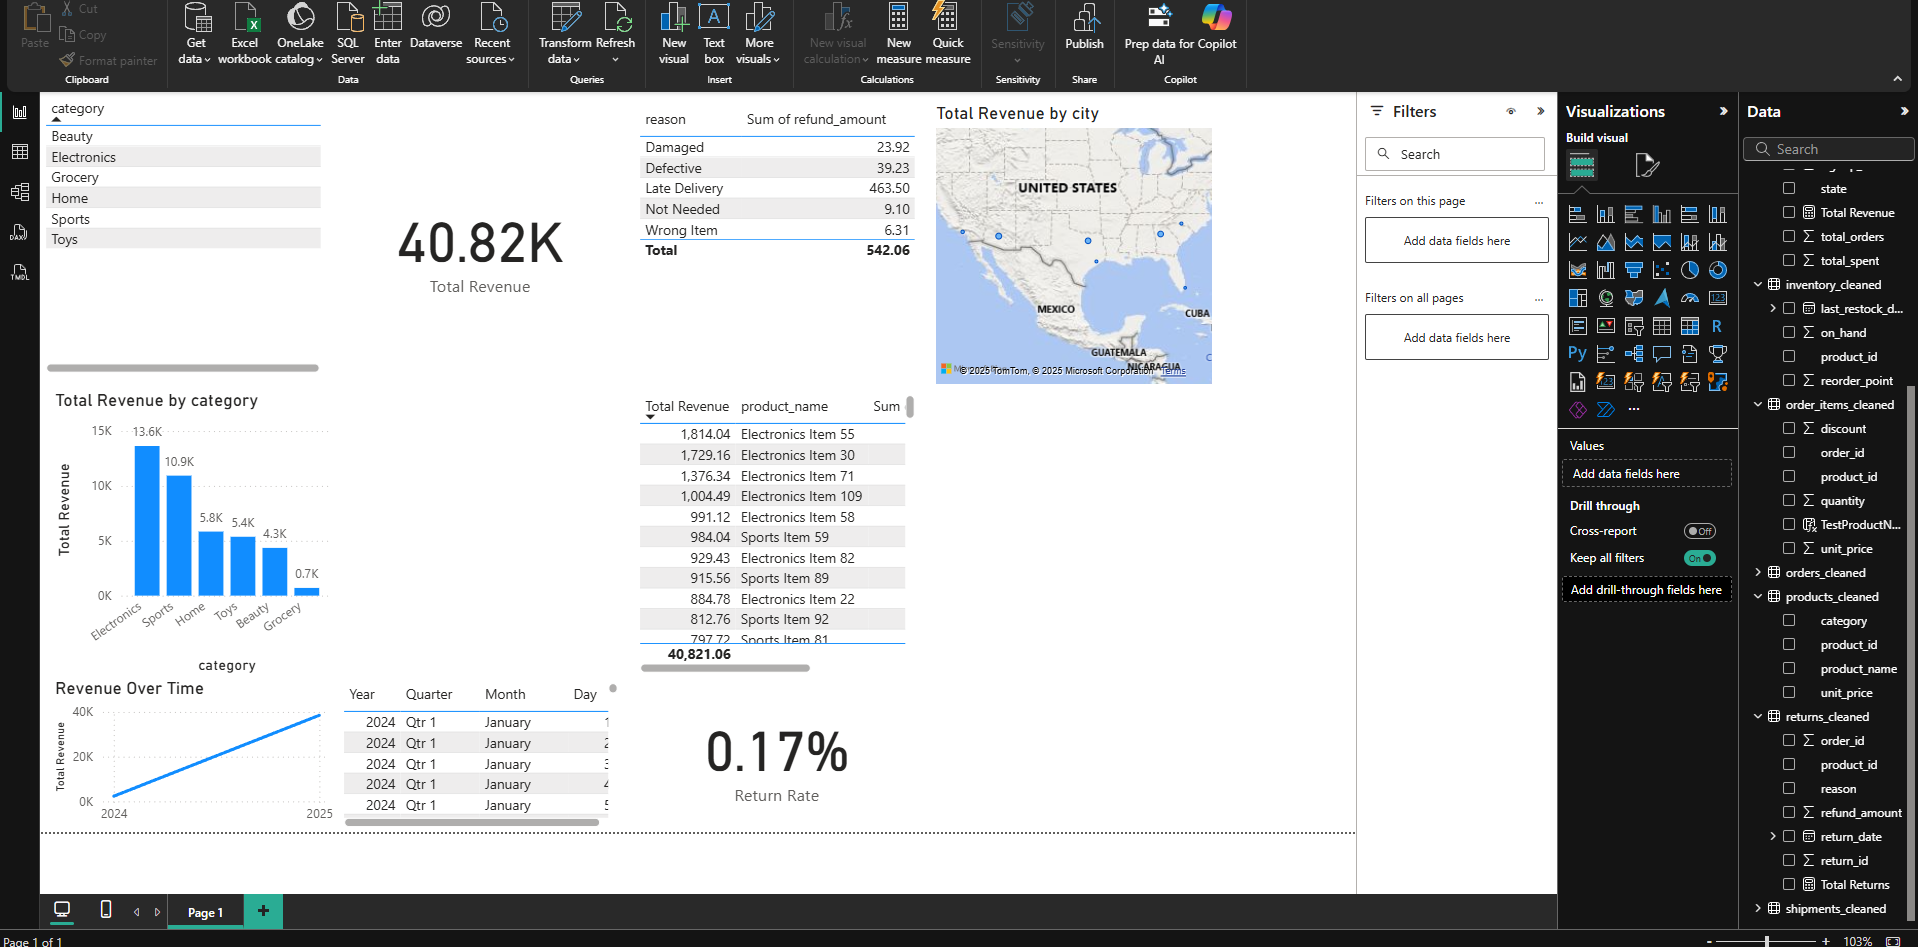

The dashboard page shown, as its layout file describes it:
{"tool":"powerbi","page":{"name":"Page 1","canvas":[1280,720],"ordinal":0},"visuals":[{"type":"card","fields":{"Values":["customers_cleaned.Total Revenue"]},"box":[289.3,10.8,278.4,278.4],"z":0},{"type":"clusteredColumnChart","fields":{"Category":["products_cleaned.category"],"Y":["customers_cleaned.Total Revenue"]},"box":[10,290,280,280],"z":1000},{"type":"lineChart","title":"Revenue Over Time","fields":{"Category":["orders_cleaned.order_date.Variation.Date Hierarchy.Year","orders_cleaned.order_date.Variation.Date Hierarchy.Quarter","orders_cleaned.order_date.Variation.Date Hierarchy.Month","orders_cleaned.order_date.Variation.Date Hierarchy.Day"],"Y":["customers_cleaned.Total Revenue"]},"box":[10,570,280,150],"z":2000},{"type":"tableEx","fields":{"Values":["orders_cleaned.order_date.Variation.Date Hierarchy.Year","orders_cleaned.order_date.Variation.Date Hierarchy.Quarter","orders_cleaned.order_date.Variation.Date Hierarchy.Month","orders_cleaned.order_date.Variation.Date Hierarchy.Day"]},"box":[290,570,277,150],"z":3000},{"type":"tableEx","box":[578,11,278,278],"z":4000},{"type":"tableEx","fields":{"Values":["customers_cleaned.Total Revenue","products_cleaned.product_name","Sum(order_items_cleaned.quantity)","products_cleaned.category"]},"box":[578,290,278,280],"z":5000},{"type":"card","fields":{"Values":["orders_cleaned.Return Rate"]},"box":[578,570,278,150],"z":6000},{"type":"tableEx","fields":{"Values":["products_cleaned.category"]},"box":[0,0,278.2,278.2],"z":7000},{"type":"map","fields":{"Category":["customers_cleaned.city"],"Size":["customers_cleaned.Total Revenue"]},"box":[867,11,278,278],"z":7001}]}

Visuals, with their boxes on the page's 1280x720 design canvas (x1, y1, x2, y2). These are canvas units, not pixel positions in the 1918x947 screenshot, which may show the page scaled, cropped or inside an application window:
card - customers_cleaned.Total Revenue: rect(289, 11, 568, 289)
clusteredColumnChart - products_cleaned.category x customers_cleaned.Total Revenue: rect(10, 290, 290, 570)
"Revenue Over Time" lineChart: rect(10, 570, 290, 720)
tableEx - orders_cleaned.order_date.Variation.Date Hierarchy.Year x orders_cleaned.order_date.Variation.Date Hierarchy.Quarter: rect(290, 570, 567, 720)
tableEx: rect(578, 11, 856, 289)
tableEx - customers_cleaned.Total Revenue x products_cleaned.product_name: rect(578, 290, 856, 570)
card - orders_cleaned.Return Rate: rect(578, 570, 856, 720)
tableEx - products_cleaned.category: rect(0, 0, 278, 278)
map - customers_cleaned.city x customers_cleaned.Total Revenue: rect(867, 11, 1145, 289)
